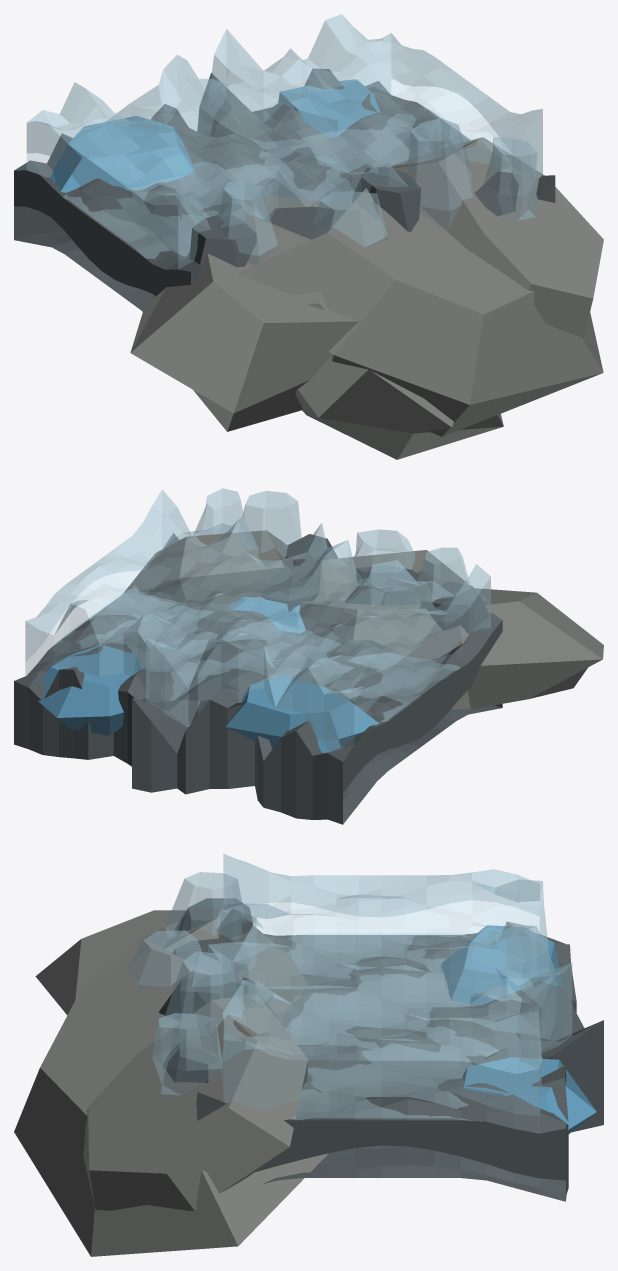
Rendered from ice_bridge_left_v11_smooth_depth.glb.
3 renders of one model, top to bottom at view 1: azimuth 30°, elevation 25°; view 2: azimuth 150°, elevation 25°; view 3: azimuth 270°, elevation 25°, orthographic. The views are drawn at different scales.
Visible parts, largest first — view 1: continuous_fractured_ice_shelf, eroded_rock_bed, large_eroded_bank_mass_01, large_eroded_bank_mass_00, large_eroded_bank_mass_02, large_eroded_bank_mass_03, compressed_ice_in_rock_00, fractured_ice_projection_02, fractured_ice_projection_00, fractured_ice_projection_03, compressed_ice_in_rock_02, fractured_ice_projection_01 (+4 smaller); view 2: continuous_fractured_ice_shelf, eroded_rock_bed, large_eroded_bank_mass_00, large_eroded_bank_mass_02, compressed_ice_in_rock_00, compressed_ice_in_rock_02, large_eroded_bank_mass_01, irregular_rock_transition_02, fractured_ice_projection_02, irregular_rock_transition_01, irregular_rock_transition_00, fractured_ice_projection_00 (+4 smaller); view 3: continuous_fractured_ice_shelf, eroded_rock_bed, large_eroded_bank_mass_02, large_eroded_bank_mass_01, large_eroded_bank_mass_00, compressed_ice_in_rock_00, fractured_ice_projection_03, compressed_ice_in_rock_02, fractured_ice_projection_02, fractured_ice_projection_00, fractured_ice_projection_01, irregular_rock_transition_02 (+4 smaller).
Boxes of the visible parts, bbox=[...] form: continuous_fractured_ice_shelf: bbox=[26, 14, 542, 268]; eroded_rock_bed: bbox=[14, 69, 555, 311]; large_eroded_bank_mass_01: bbox=[237, 188, 603, 436]; large_eroded_bank_mass_00: bbox=[130, 195, 358, 431]; large_eroded_bank_mass_02: bbox=[387, 137, 603, 338]; large_eroded_bank_mass_03: bbox=[245, 215, 503, 459]; compressed_ice_in_rock_00: bbox=[49, 116, 195, 192]; fractured_ice_projection_02: bbox=[407, 118, 472, 228]; fractured_ice_projection_00: bbox=[217, 181, 277, 264]; fractured_ice_projection_03: bbox=[484, 137, 537, 220]; compressed_ice_in_rock_02: bbox=[278, 79, 380, 137]; fractured_ice_projection_01: bbox=[313, 191, 387, 246]; continuous_fractured_ice_shelf: bbox=[25, 489, 490, 751]; eroded_rock_bed: bbox=[14, 533, 502, 824]; large_eroded_bank_mass_00: bbox=[299, 588, 603, 709]; large_eroded_bank_mass_02: bbox=[123, 530, 287, 604]; compressed_ice_in_rock_00: bbox=[225, 675, 379, 753]; compressed_ice_in_rock_02: bbox=[38, 644, 142, 735]; large_eroded_bank_mass_01: bbox=[229, 550, 488, 605]; irregular_rock_transition_02: bbox=[259, 534, 337, 611]; fractured_ice_projection_02: bbox=[238, 490, 301, 557]; irregular_rock_transition_01: bbox=[345, 565, 421, 605]; irregular_rock_transition_00: bbox=[420, 581, 489, 634]; fractured_ice_projection_00: bbox=[416, 547, 470, 605]; continuous_fractured_ice_shelf: bbox=[192, 853, 572, 1120]; eroded_rock_bed: bbox=[196, 933, 603, 1201]; large_eroded_bank_mass_02: bbox=[83, 994, 308, 1210]; large_eroded_bank_mass_01: bbox=[14, 927, 328, 1256]; large_eroded_bank_mass_00: bbox=[35, 910, 307, 1023]; compressed_ice_in_rock_00: bbox=[439, 925, 562, 1005]; fractured_ice_projection_03: bbox=[152, 1013, 222, 1095]; compressed_ice_in_rock_02: bbox=[462, 1057, 596, 1133]; fractured_ice_projection_02: bbox=[163, 951, 245, 1032]; fractured_ice_projection_00: bbox=[165, 872, 243, 941]; fractured_ice_projection_01: bbox=[126, 930, 202, 989]; irregular_rock_transition_02: bbox=[159, 974, 276, 1021].
Bounding box in the file's own units: 2.7 × 1.39 × 2.69.
